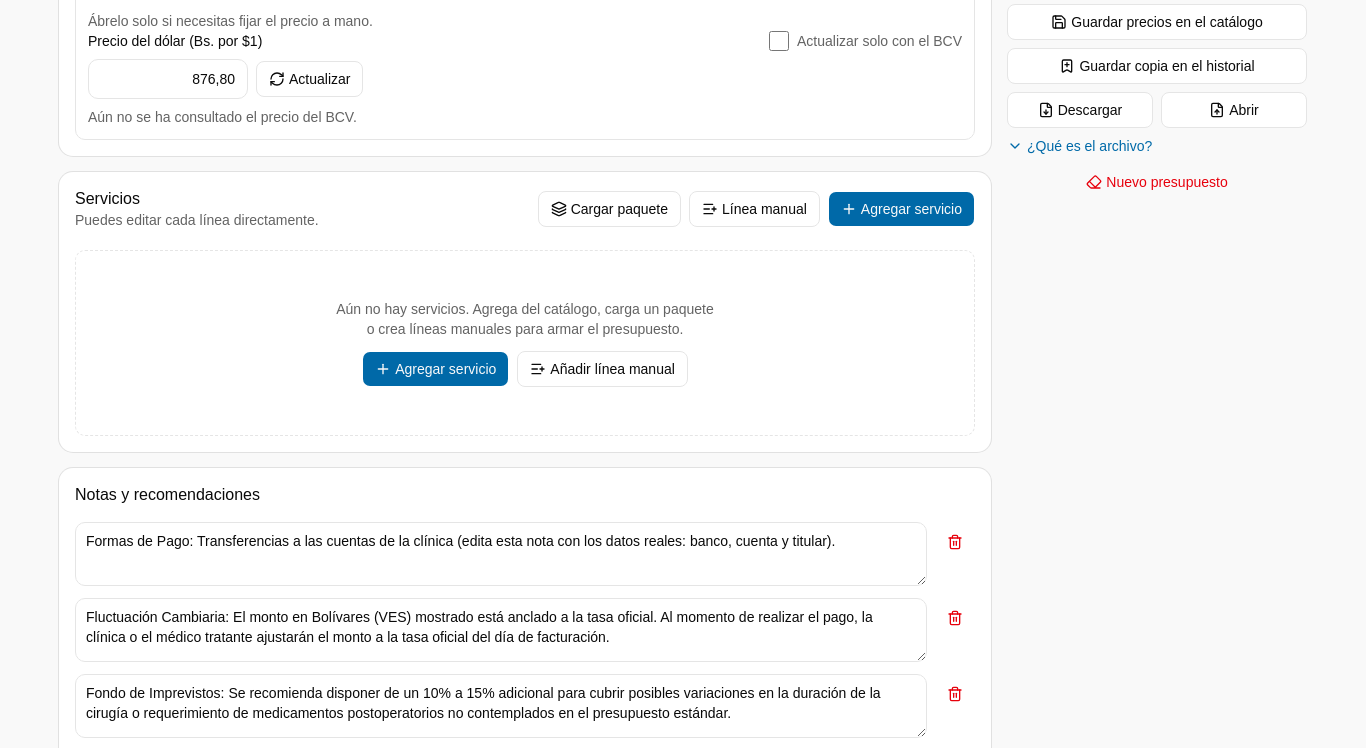
it: App · interacciones › añade una línea manual al presupuesto
(page scrolled)
Expected: the field labelled "Concepto" is not shown
Click the button "Añadir línea manual": {"x": 603, "y": 368} [517,350,688,386]
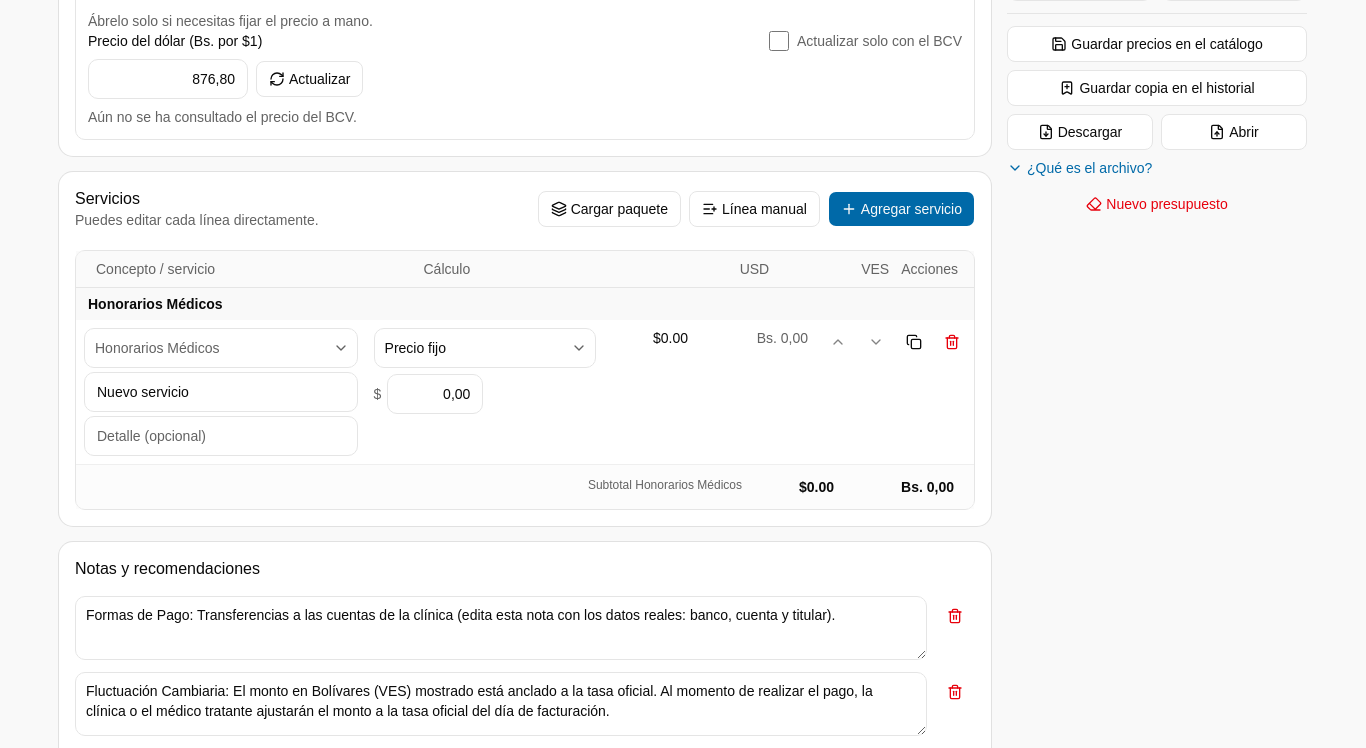
Expected: the field named "Concepto" holds "Nuevo servicio", [84,372,358,412]
Expected: the 1st text "Honorarios Médicos" is shown, [88,296,223,312]
